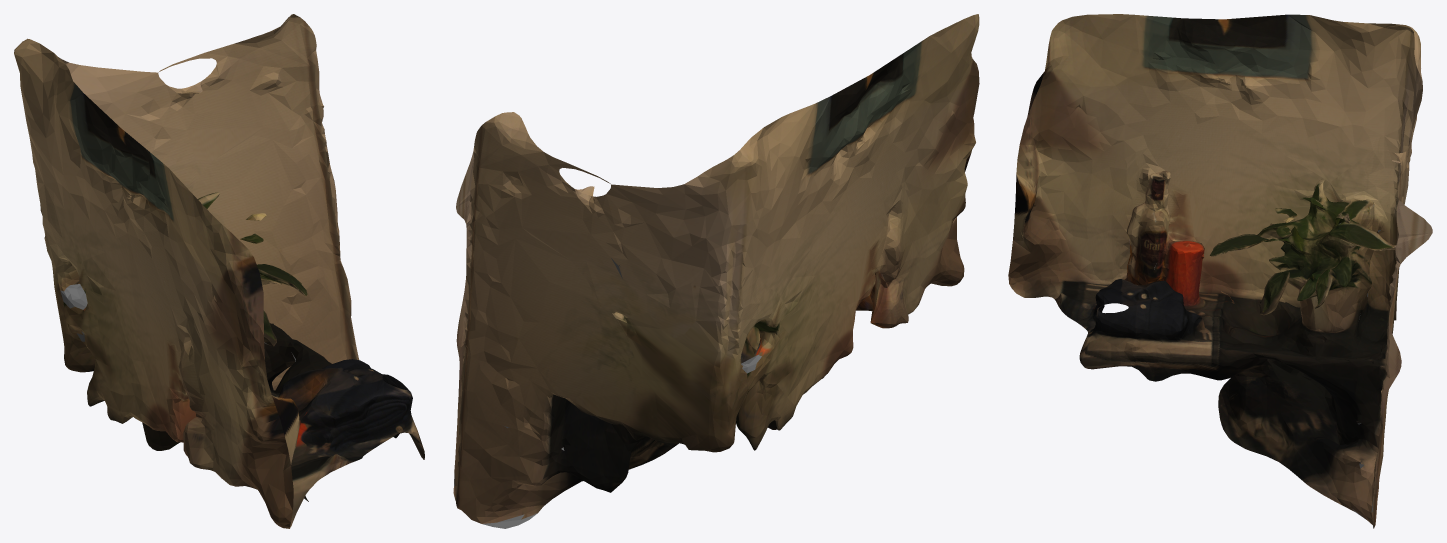
File: untitled_Reduced.obj
3 views of the same model, side by side, from view 1: azimuth 30°, elevation 25°; view 2: azimuth 150°, elevation 25°; view 3: azimuth 270°, elevation 25° (orthographic). The views are drawn at different scales.
Size of the model in its own units: 5.7 by 7.42 by 7.29.
Materials: 2 (1 with a texture image).
